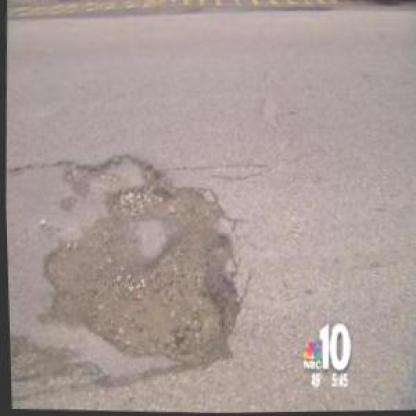pothole: (31, 151, 242, 368)
